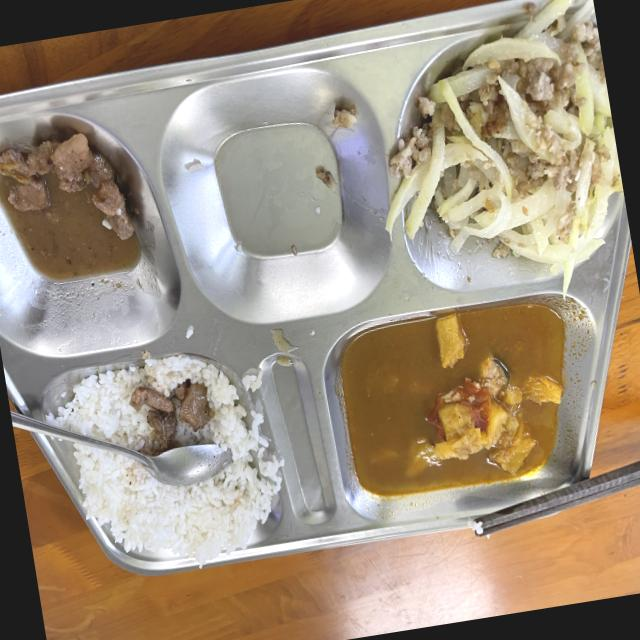com: (48, 355, 283, 564)
kho tieu: (0, 132, 160, 294), (130, 382, 214, 452)
